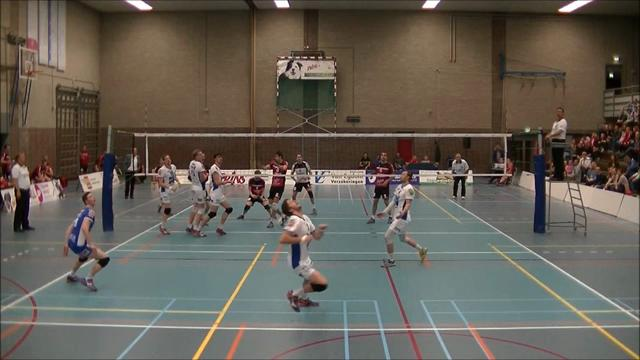difesa: (274, 197, 334, 315)
